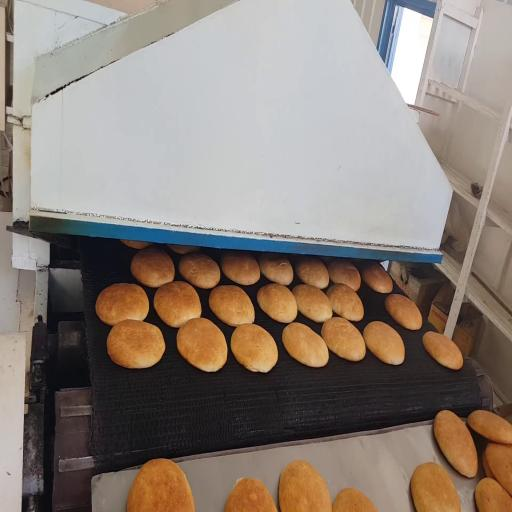bread: (127, 459, 194, 511), (434, 411, 477, 477), (107, 320, 165, 368), (177, 318, 227, 372), (279, 461, 331, 511), (411, 462, 460, 511), (231, 324, 278, 372), (96, 284, 149, 325), (154, 282, 201, 328), (282, 323, 328, 367), (322, 317, 365, 361), (209, 285, 254, 326), (363, 321, 404, 365), (131, 247, 174, 287), (225, 478, 277, 511), (257, 284, 297, 323), (292, 284, 332, 322), (423, 332, 463, 370), (467, 411, 511, 444), (179, 253, 220, 288), (327, 284, 363, 321), (385, 294, 422, 330), (221, 251, 260, 285), (486, 443, 511, 494), (475, 478, 511, 511), (295, 256, 329, 289), (328, 259, 361, 291), (259, 254, 293, 285), (333, 488, 377, 511), (362, 263, 392, 293), (482, 450, 495, 479), (167, 245, 199, 255), (120, 240, 152, 249)
